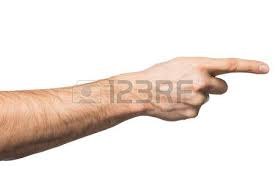hand: (107, 40, 275, 132)
